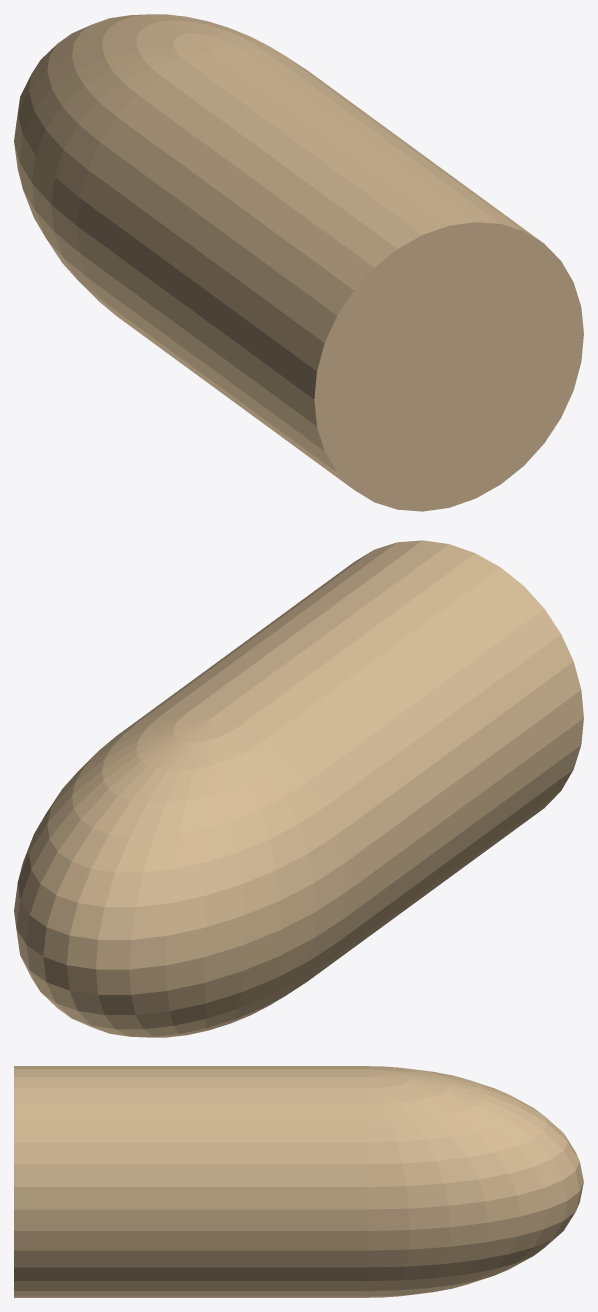
File: bullet.fbx
The picture shows the model from 3 angles, top to bottom: view 1: azimuth 30°, elevation 25°; view 2: azimuth 150°, elevation 25°; view 3: azimuth 270°, elevation 25°; orthographic projection. The views are drawn at different scales.
Visible parts, largest first — view 1: Sphere; view 2: Sphere; view 3: Sphere.
Boxes of the visible parts, x1,y1,x2,y2 form: Sphere: (14,14,583,511); Sphere: (14,540,583,1037); Sphere: (14,1066,583,1297).
Size of the model in its own units: 200 by 200 by 491.
